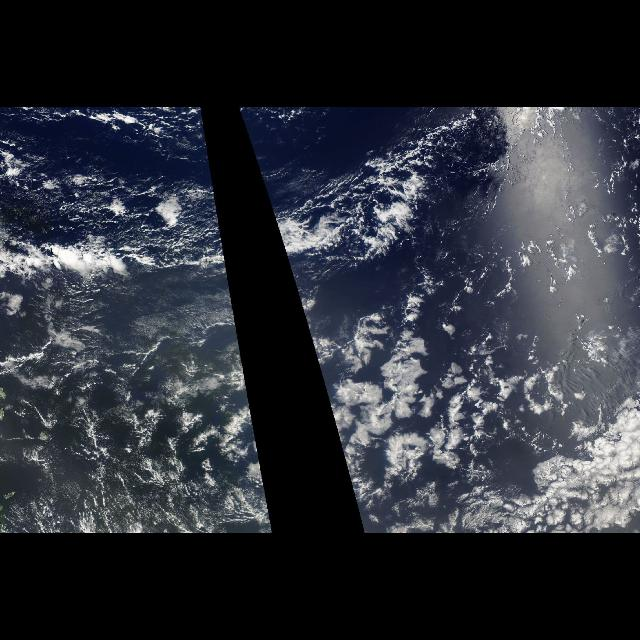Fish: (241, 116, 501, 282), (0, 116, 230, 282)
Flower: (301, 294, 619, 532), (38, 308, 266, 492)
Sugar: (18, 203, 230, 281), (270, 203, 430, 281)
